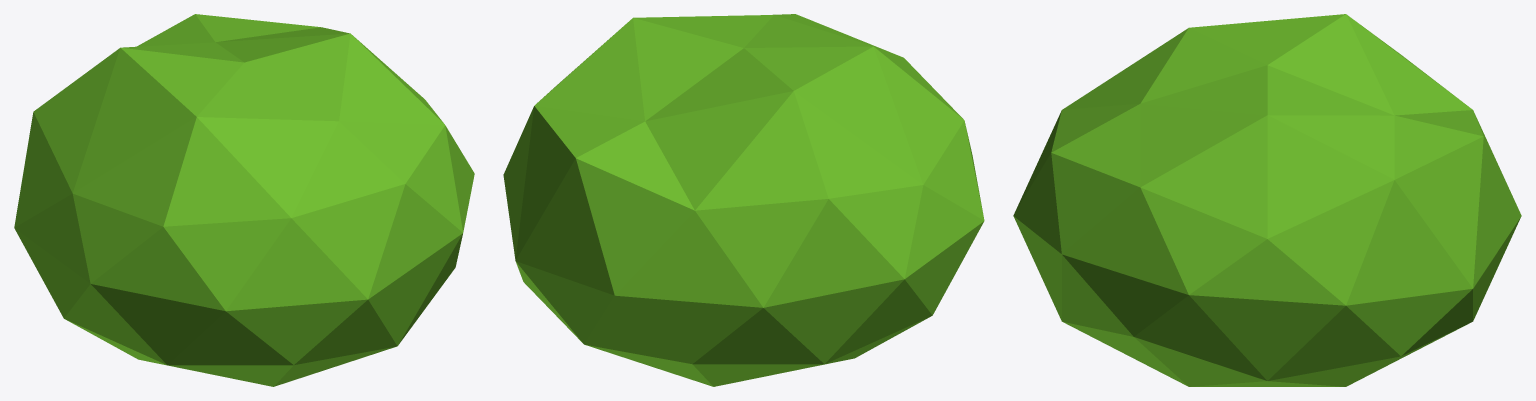
Rendered from Куст№2.fbx.
The picture shows the model from 3 angles, left to right: view 1: azimuth 30°, elevation 25°; view 2: azimuth 150°, elevation 25°; view 3: azimuth 270°, elevation 25°; orthographic projection. The views are drawn at different scales.
Parts seen in each view (by area): view 1: Куст №2; view 2: Куст №2; view 3: Куст №2.
Boxes of the visible parts, box(x1,y1,x2,y2) form: Куст №2: box(14, 14, 474, 386); Куст №2: box(503, 14, 984, 386); Куст №2: box(1013, 14, 1521, 386).
Bounding box in the file's own units: 549 × 411 × 613.
